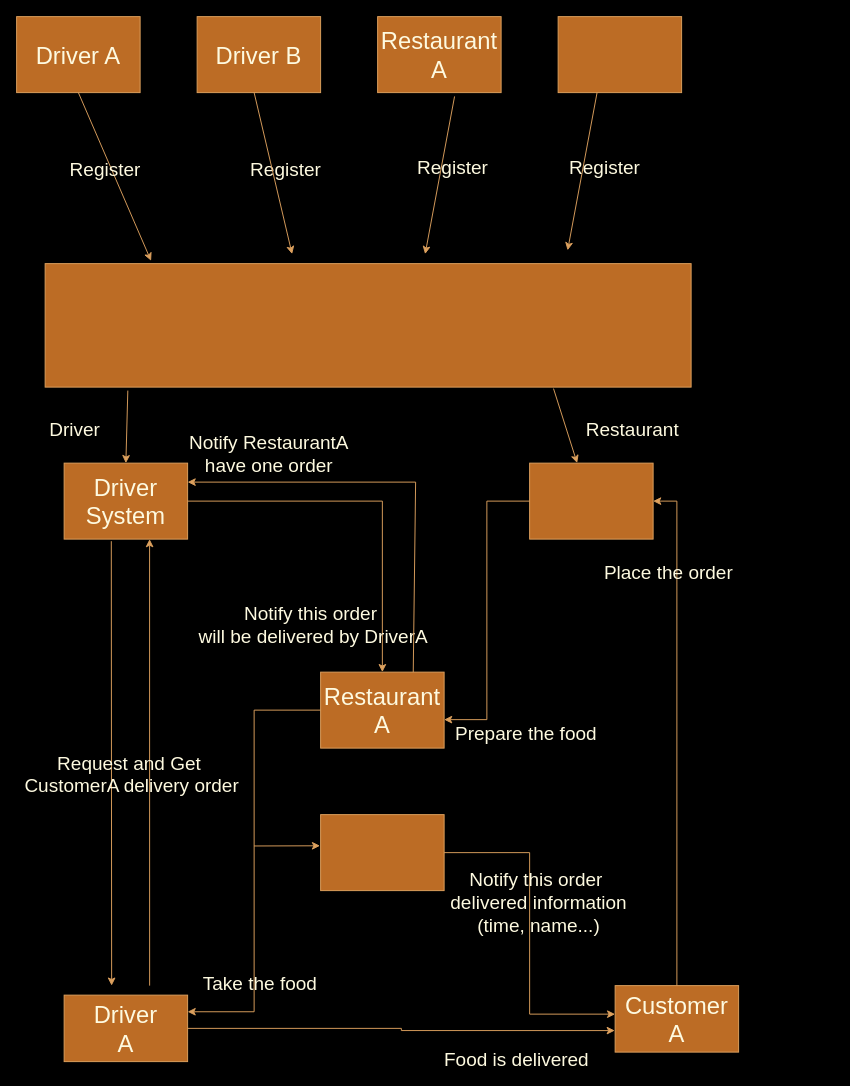
Some shapes in this 850 by 1086 pixel diagram are drawn without their labels. The shapes that lost their labels are listed below. From the top down, each one's centre as x and y in pixels, then its label:
pixel 619 54: Restaurant B
pixel 367 325: Our System
pixel 591 500: Restaurant System
pixel 382 852: Server
